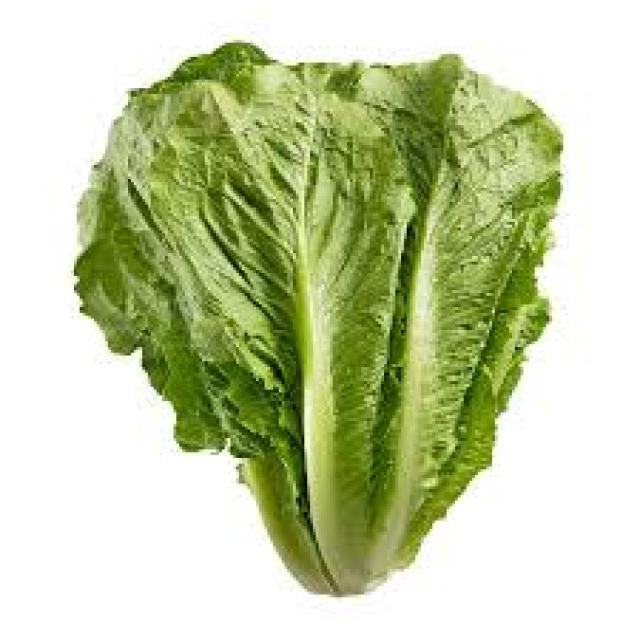Lettuce: (75, 36, 563, 602)
